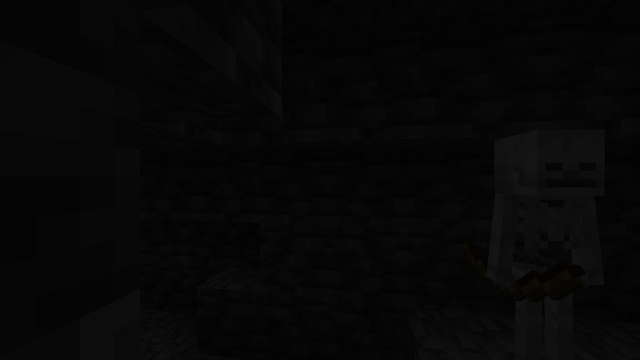squelettes: (488, 128, 618, 358)
